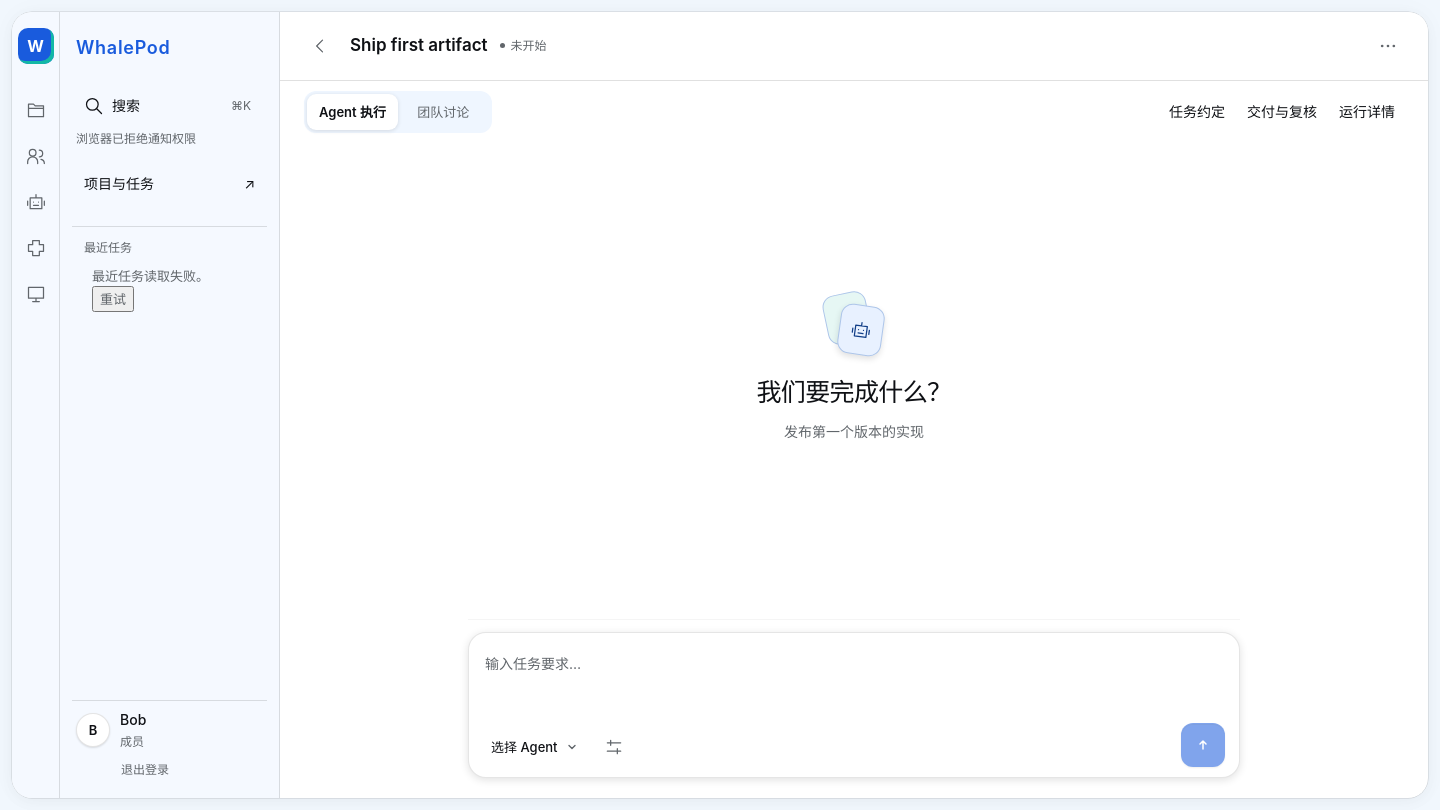
Test: RunLauncher › 评审：Node 已拒收的首次启动保留草稿，不假装进入追问
The width and height of the screenshot is (1440, 810).
Click the button "选择 Agent": x=534, y=747 x1=483 y1=727 x2=586 y2=767
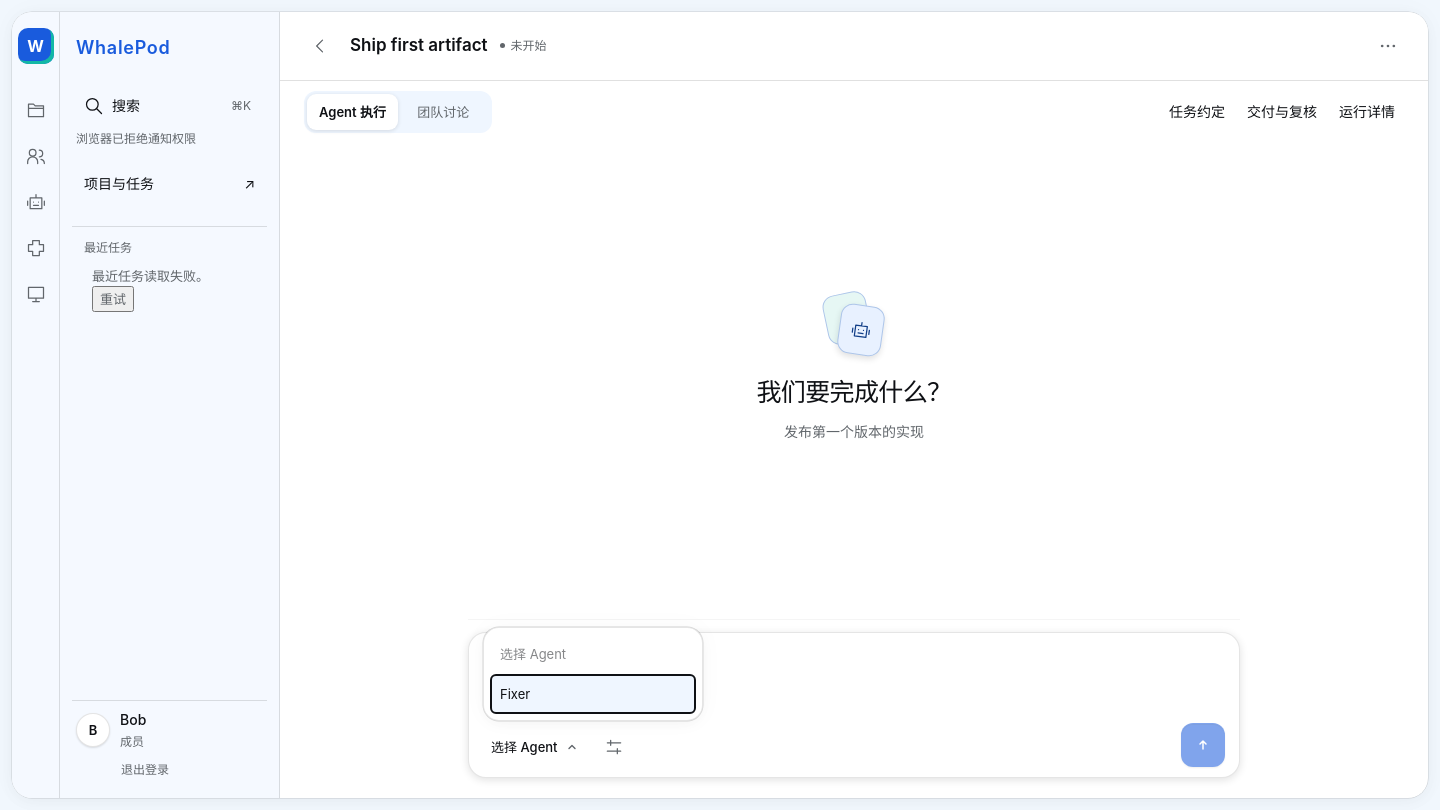
Click the menu item "Fixer": x=593, y=694 x1=490 y1=674 x2=696 y2=714
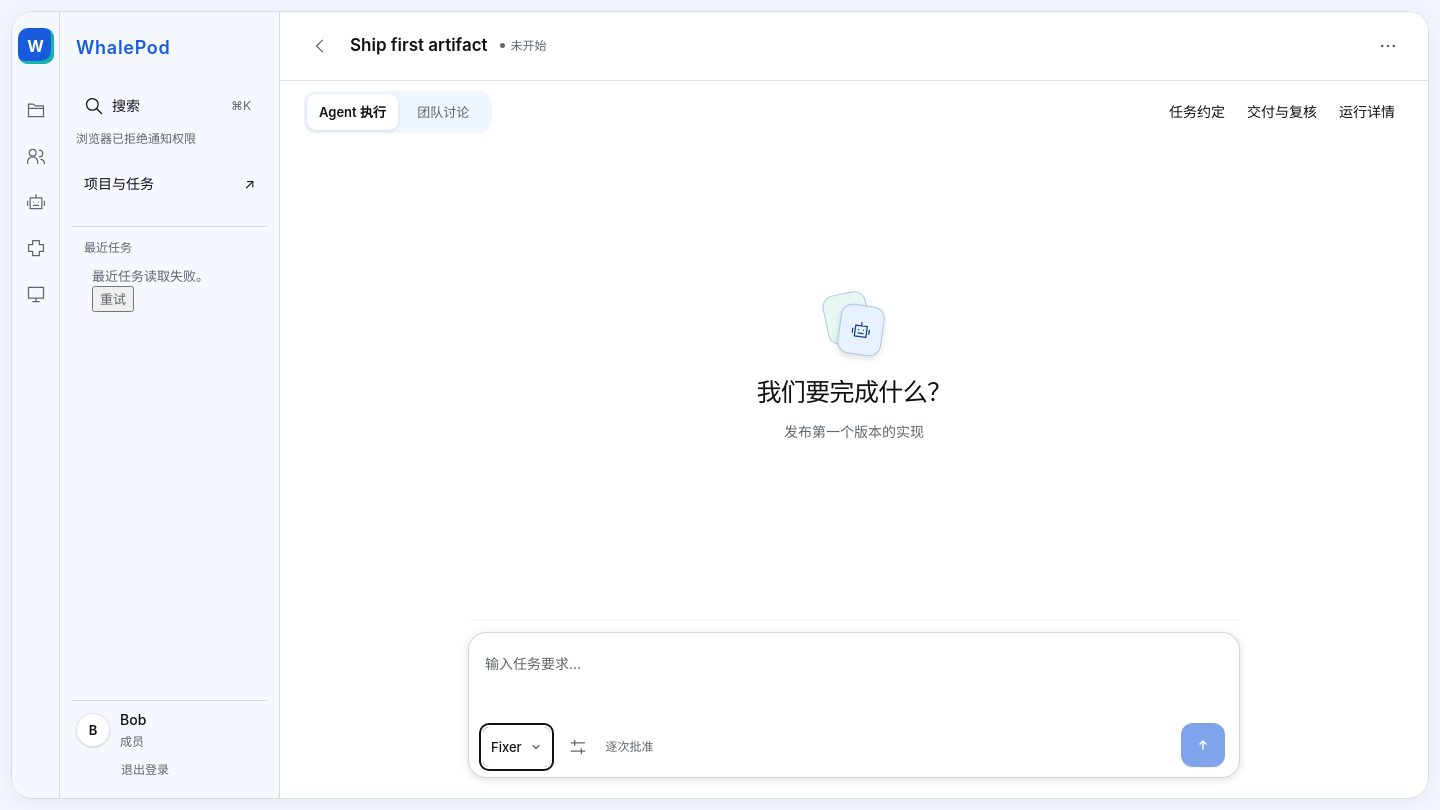
In the text box named "指令": x=854, y=685 x1=483 y1=647 x2=1225 y2=723, type "保留被拒收的原文"
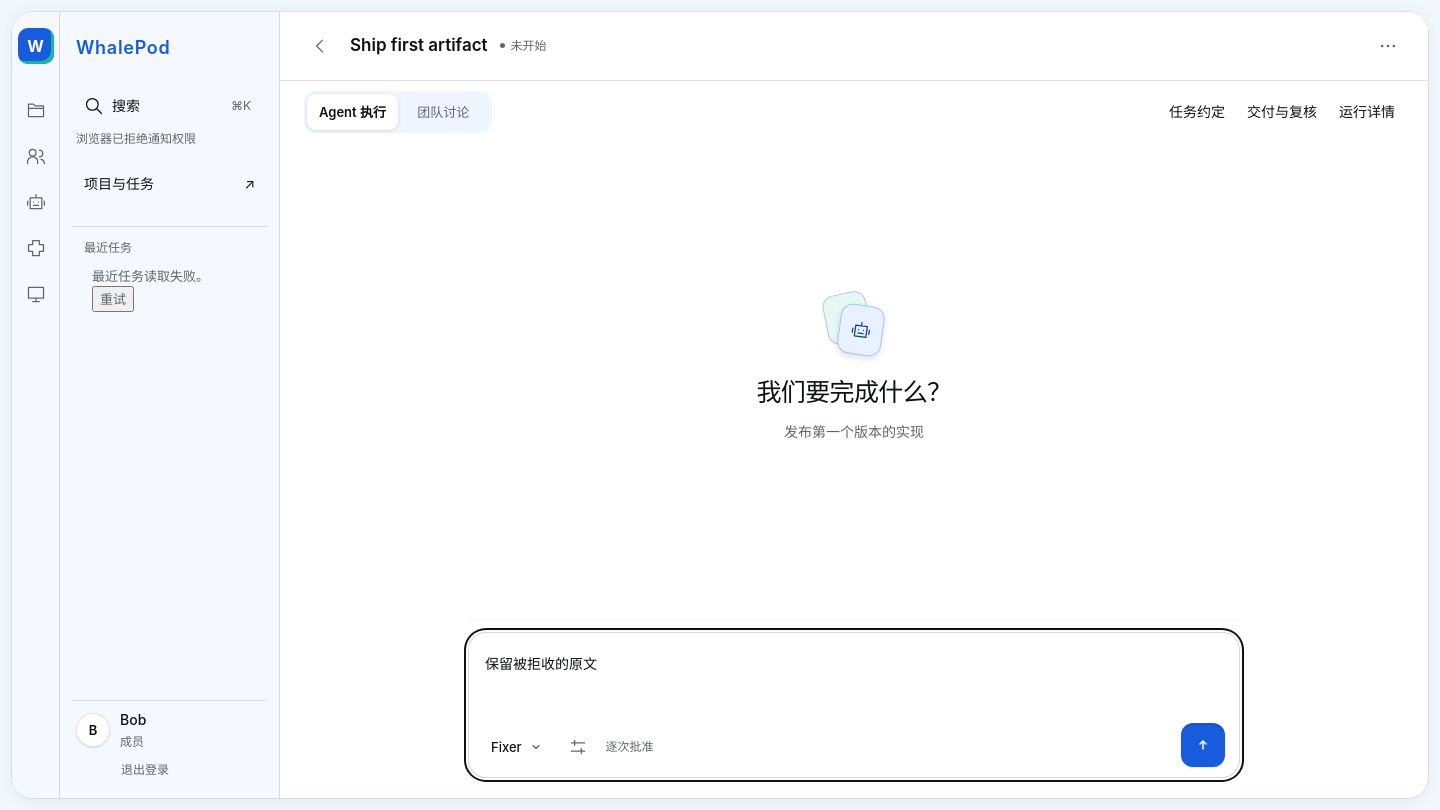
Click the button named "开始执行": x=1203, y=745 x1=1181 y1=723 x2=1225 y2=767
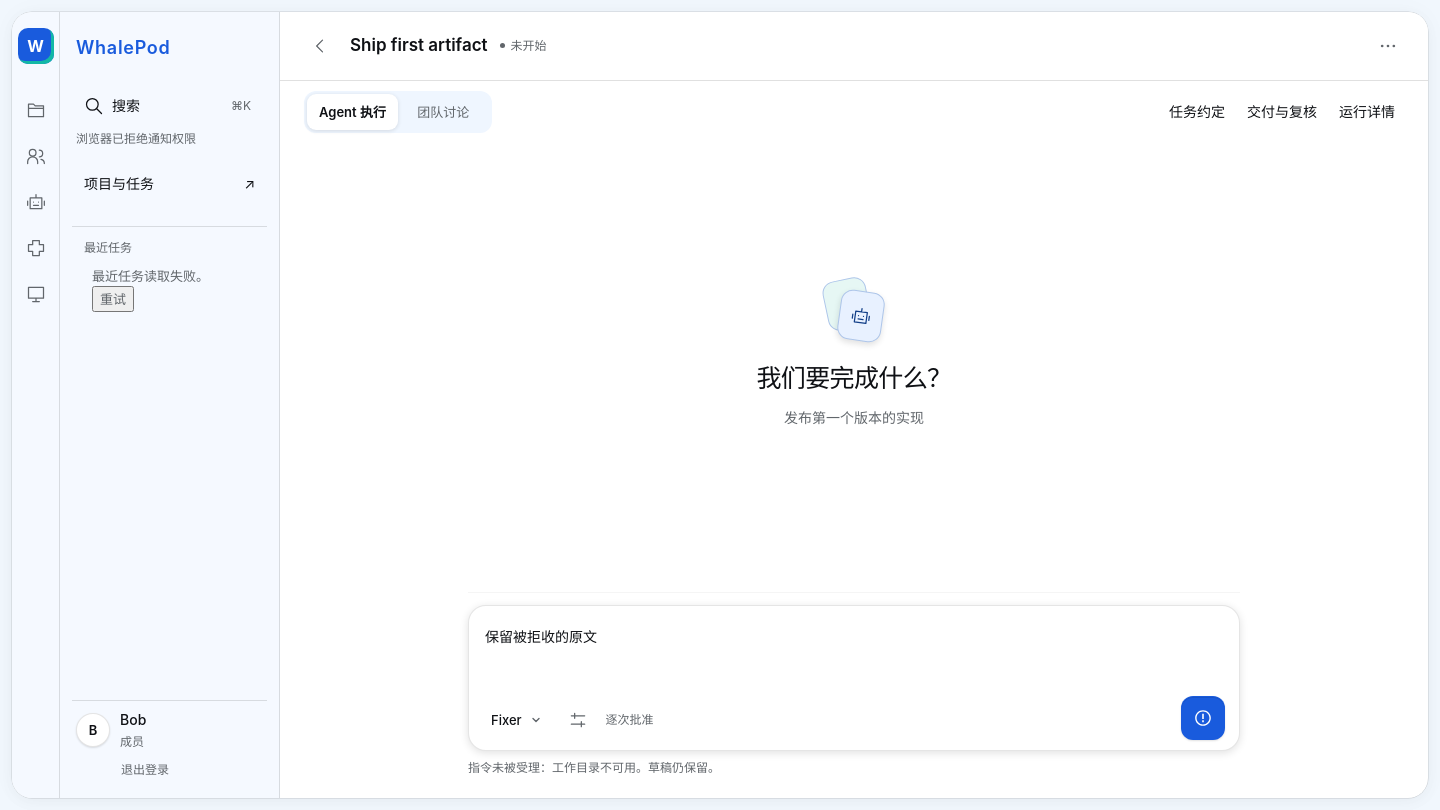
Result: the message with test id "execution-start-refusal" shows "工作目录不可用" at x1=552 y1=760 x2=636 y2=775
